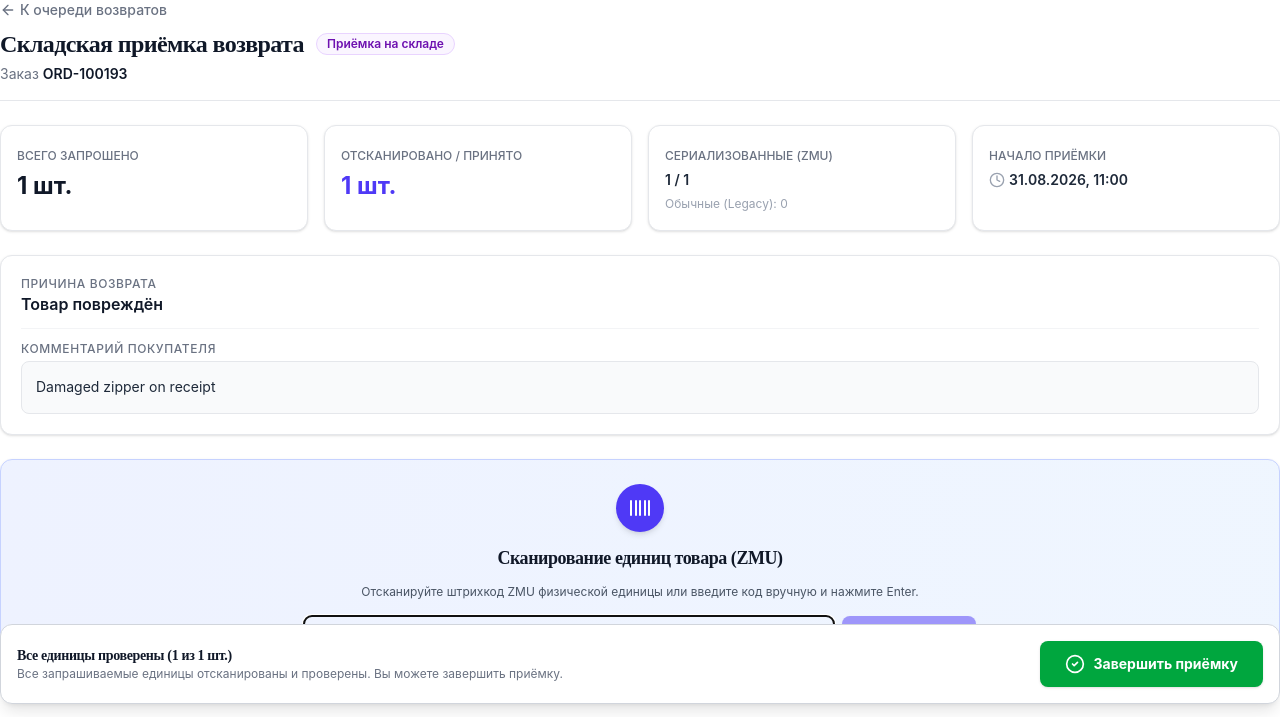
Test: AdminReturnReceiving Component & Flows › finalizes receiving via confirmation modal and updates Return status to item_received without auto-refund
# Click Finalize to open confirmation modal
Click the button "Завершить приёмку".
click(1152, 664)  # box [1040,641,1263,687]
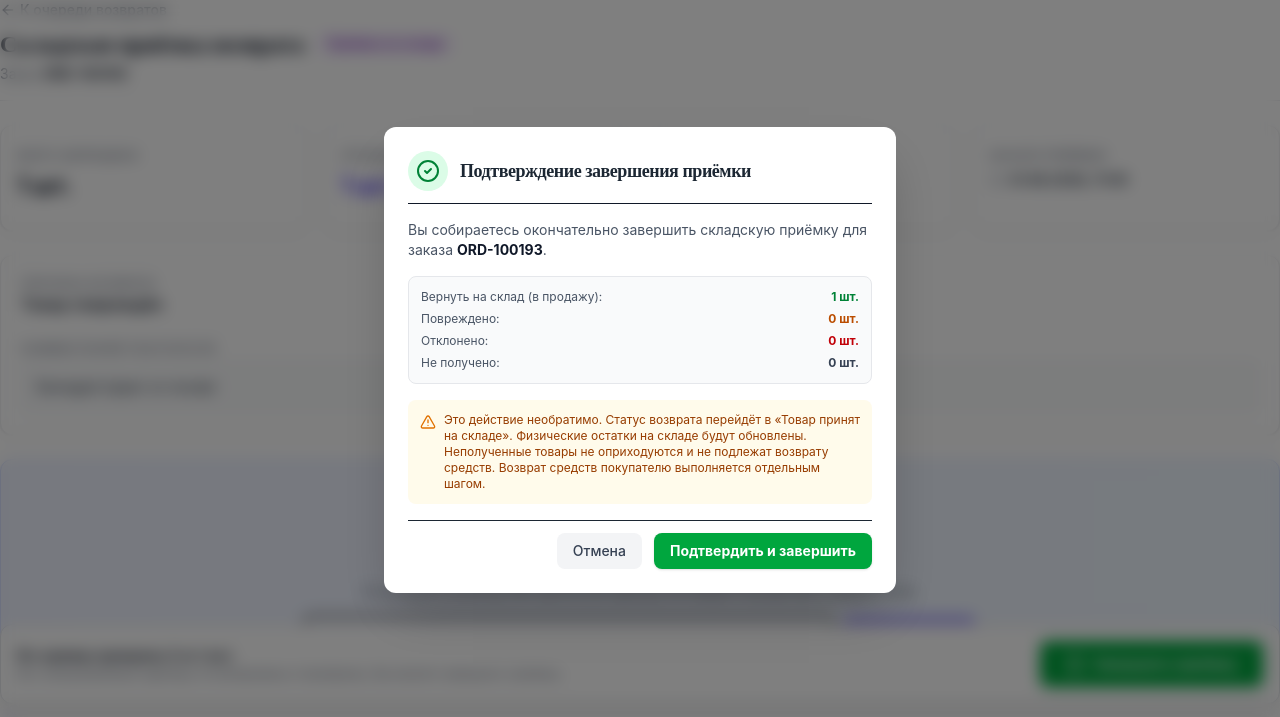
Result: the heading "Подтверждение завершения приёмки" is shown at [460,157,751,185]
Result: the text "Вернуть на склад (в продажу):" is shown at [421,289,602,305]
Result: the button "Подтвердить и завершить" is shown
# Confirm Finalize
Click the button "Подтвердить и завершить".
click(763, 551)  # box [654,533,872,569]
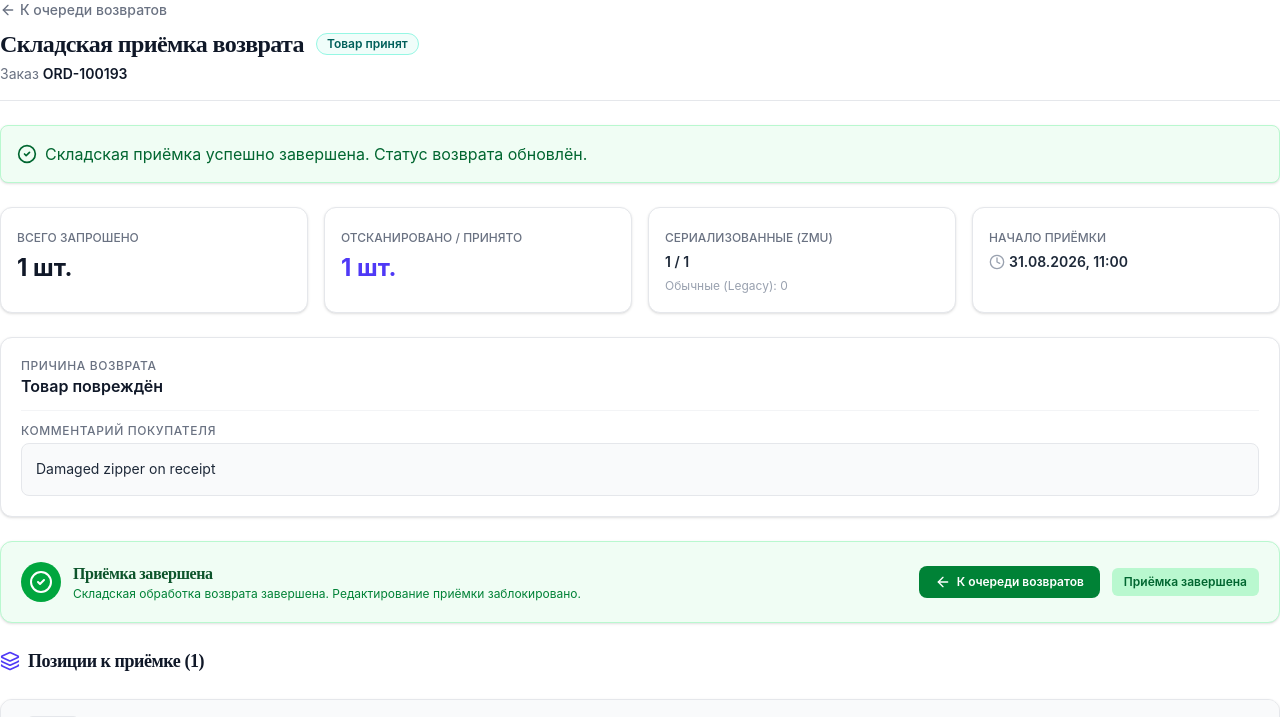
Result: the text "Товар принят" is shown at [316,33,419,55]
